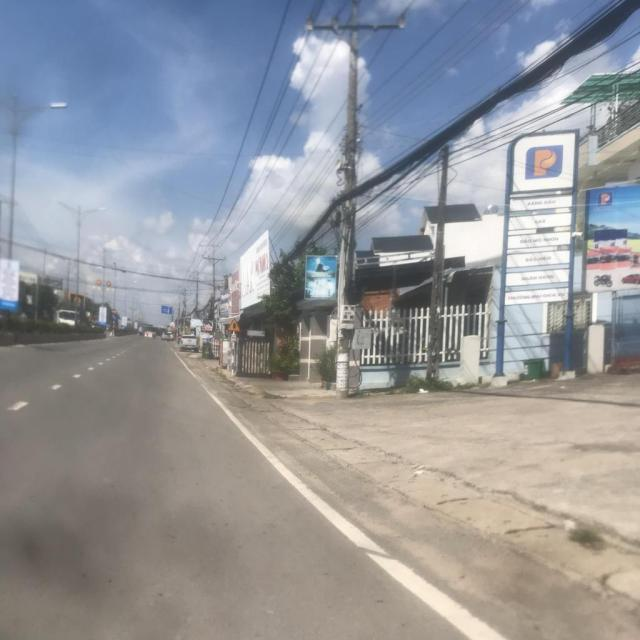cam_xe_di_nguoc_chieu: (111, 310, 116, 314)
giao_nhau_voi_duong_khong_uu_tien: (227, 318, 241, 332)
huong_phai_di_vuot_chuong_ngai_vat_phai: (112, 314, 116, 320)
khac: (162, 306, 172, 314)
